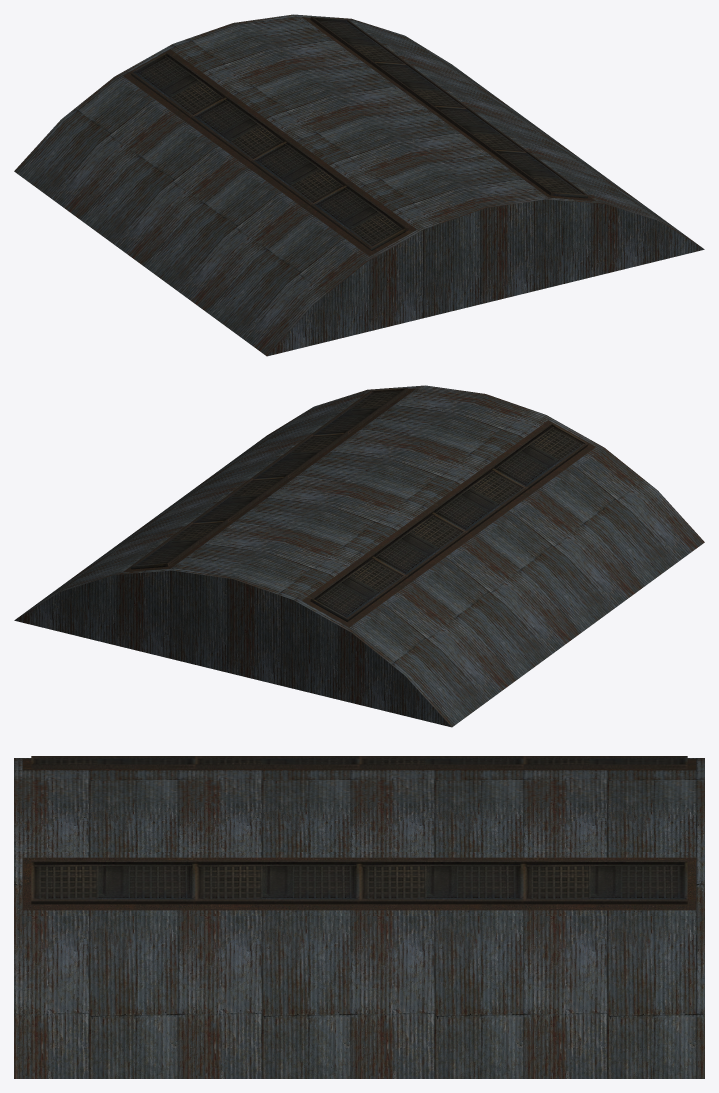
File: warehouse_hs_1_roof_2.obj
3 renders of one model, top to bottom at view 1: azimuth 30°, elevation 25°; view 2: azimuth 150°, elevation 25°; view 3: azimuth 270°, elevation 25°, orthographic. The views are drawn at different scales.
Parts seen in each view (by area): view 1: warehouse_hs_1_roof_2; view 2: warehouse_hs_1_roof_2; view 3: warehouse_hs_1_roof_2.
Part boxes in pixels (left/top/right/bottom): warehouse_hs_1_roof_2: left=14, top=14, right=704, bottom=356; warehouse_hs_1_roof_2: left=14, top=385, right=704, bottom=727; warehouse_hs_1_roof_2: left=14, top=756, right=704, bottom=1078.
Bounding box in the file's own units: 8 × 1.66 × 8.
